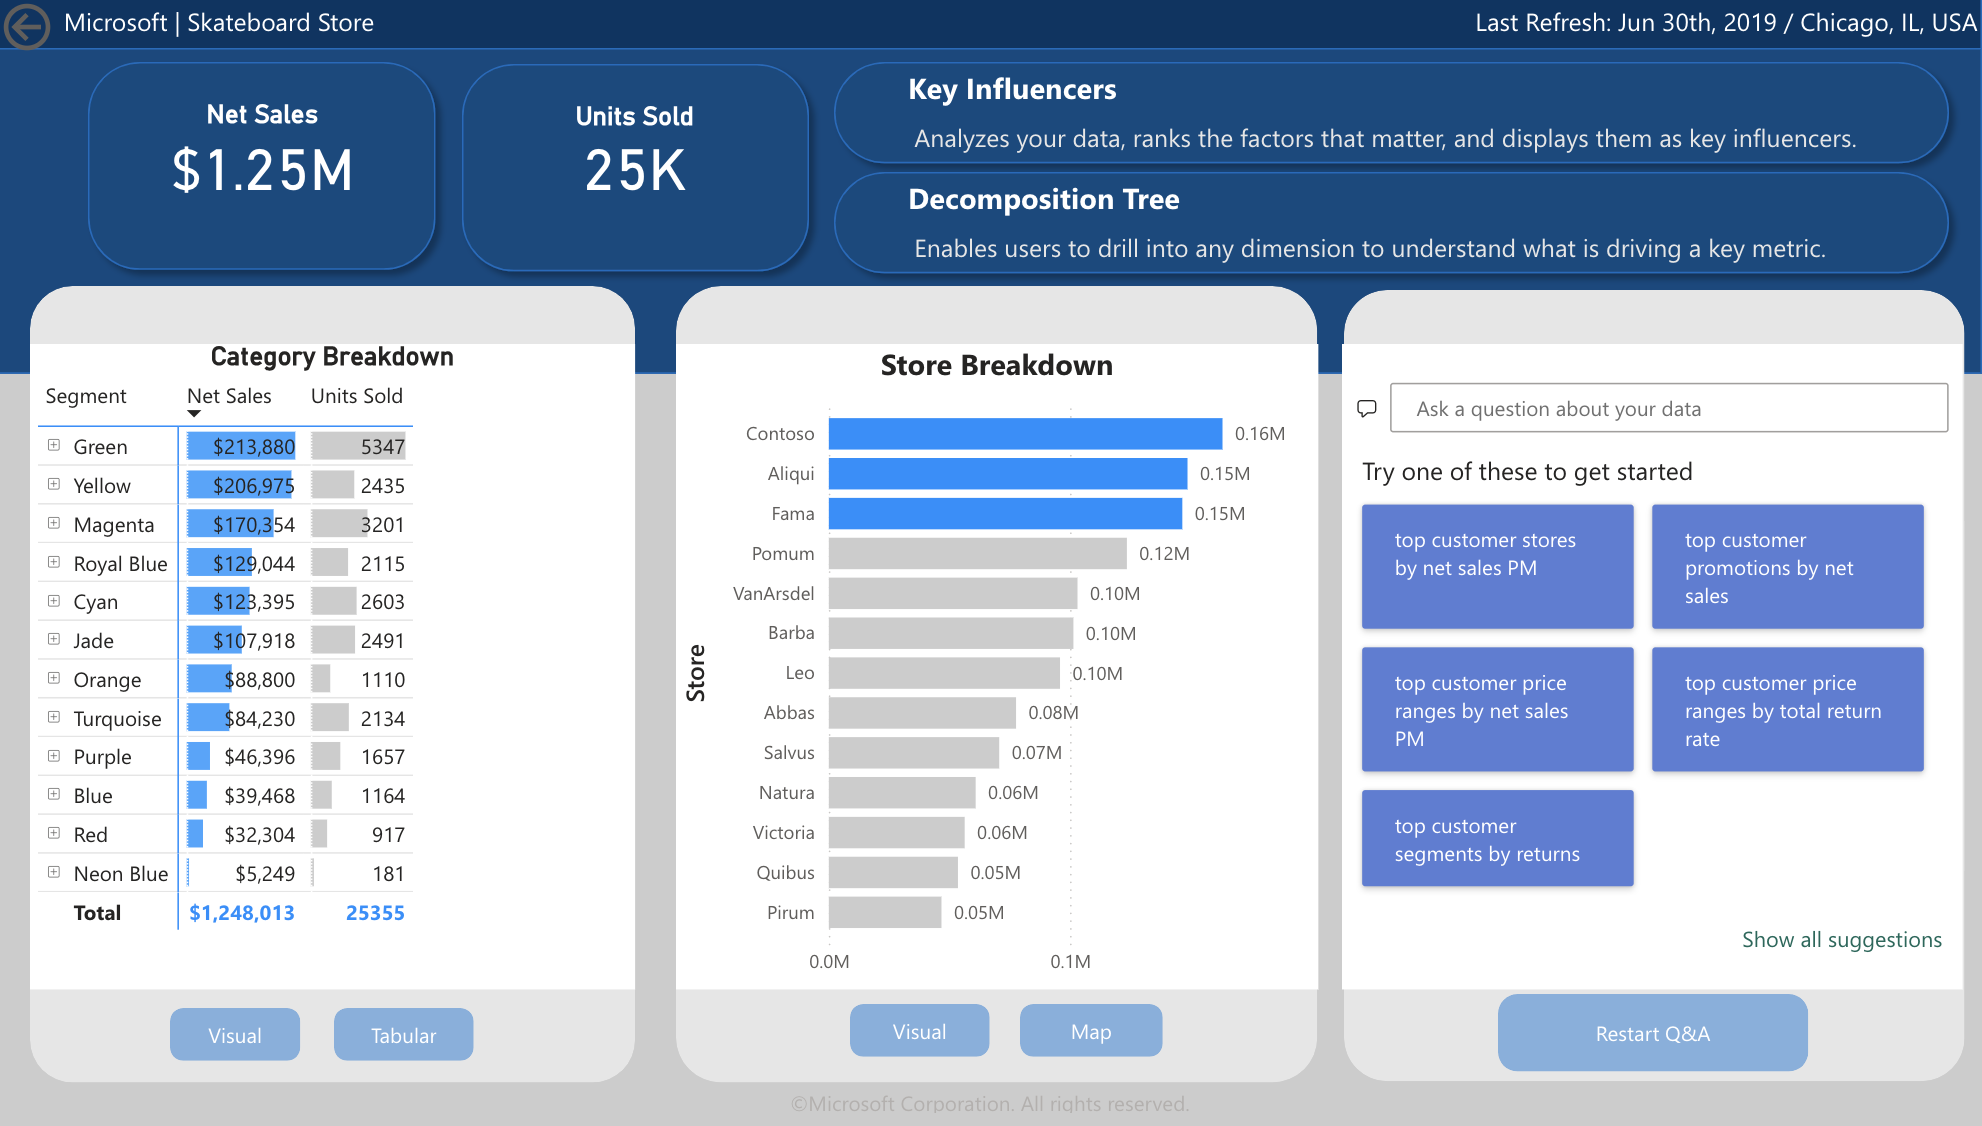

Layout of this report page (visuals, bound fields, positions):
{"tool":"powerbi","page":{"name":"Net Sales","canvas":[1280,720],"ordinal":0},"visuals":[{"type":"shape","box":[0,0,1280,210.4],"z":0},{"type":"shape","box":[0,34,1280,210],"z":1000},{"type":"shape","box":[21.7,186.7,390,513.3],"z":2000},{"type":"barChart","title":"Category Breakdown","fields":{"Category":["Product.Category","Product.Segment","Product.Product"],"Y":["AnalysisMeasure.Net Sales"]},"box":[22,224,390,416],"z":3000},{"type":"shape","box":[438.3,186.7,413.3,513.3],"z":5000},{"type":"actionButton","box":[112,652,84,34],"z":6000},{"type":"actionButton","box":[218,652,90,34],"z":7000},{"type":"barChart","title":"Store Breakdown","fields":{"Category":["Store.Store"],"Y":["AnalysisMeasure.Sales Amount by Store"]},"box":[438,224,414,416],"z":8000},{"type":"actionButton","box":[550,650,90,34],"z":10000},{"type":"actionButton","box":[660,650,92,34],"z":11000},{"type":"shape","box":[50,34,242,152],"z":12000},{"type":"card","title":"Net Sales","fields":{"Values":["AnalysisMeasure.Net Sales"]},"box":[106,68,132,64],"z":13000},{"type":"actionButton","box":[0,0,100,40],"z":14000},{"type":"shape","box":[291.7,35,241.7,151.7],"z":15000},{"type":"card","title":"Units Sold","fields":{"Values":["AnalysisMeasure.Units Sold"]},"box":[338,70,148,62],"z":16000},{"type":"shape","box":[531.7,33.3,736.7,83.3],"z":17000},{"type":"shape","box":[531.7,105,736.7,83.3],"z":18000},{"type":"shape","box":[868.3,190,400,510],"z":19000},{"type":"qnaVisual","box":[868,224,400,416],"z":20000},{"type":"actionButton","box":[968.3,643.3,200,50],"z":21000},{"type":"actionButton","title":"Key Influencers","box":[588.3,46.7,691.7,55],"z":22000},{"type":"textbox","box":[38.6,0,460,34.3],"z":23000},{"type":"textbox","box":[640,0,641.7,33.3],"z":24000},{"type":"actionButton","title":"Decomposition Tree","box":[588.3,116.7,691.7,55],"z":25000},{"type":"actionButton","box":[0,700,1281.1,21.1],"z":26000}]}

Visuals, with their boxes in screenshot pixels (x1, y1, x2, y2), scaled from the page's 1280x720 canvas onto the 1982x1126 screenshot:
shape: 0:0:1981:329
shape: 0:53:1981:382
shape: 34:292:637:1095
"Category Breakdown" barChart: 34:350:638:1001
shape: 679:292:1319:1095
actionButton: 173:1020:303:1073
actionButton: 338:1020:477:1073
"Store Breakdown" barChart: 678:350:1319:1001
actionButton: 852:1017:991:1070
actionButton: 1022:1017:1164:1070
shape: 77:53:452:291
"Net Sales" card: 164:106:369:206
actionButton: 0:0:155:63
shape: 452:55:826:292
"Units Sold" card: 523:109:753:206
shape: 823:52:1964:182
shape: 823:164:1964:294
shape: 1345:297:1964:1095
qnaVisual: 1344:350:1963:1001
actionButton: 1499:1006:1809:1084
"Key Influencers" actionButton: 911:73:1981:159
textbox: 60:0:772:54
textbox: 991:0:1981:52
"Decomposition Tree" actionButton: 911:183:1981:269
actionButton: 0:1095:1981:1125
